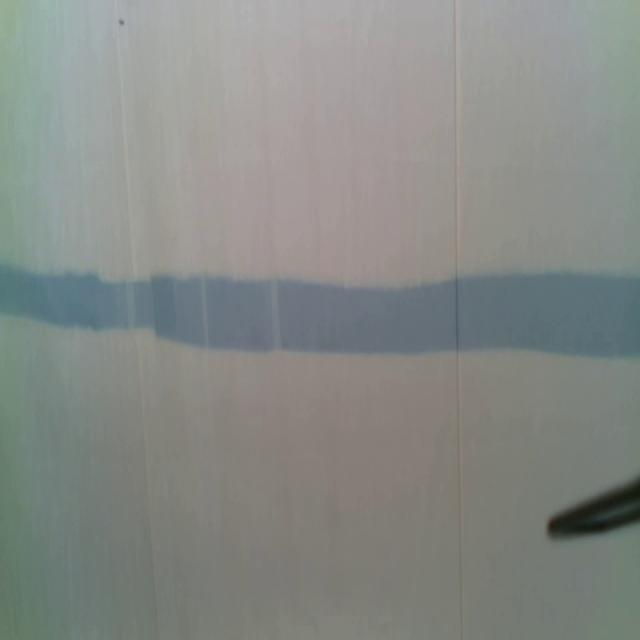color bleeding: (0, 256, 640, 364)
crease: (116, 3, 161, 629), (451, 0, 466, 640)
hole: (118, 14, 126, 29)
